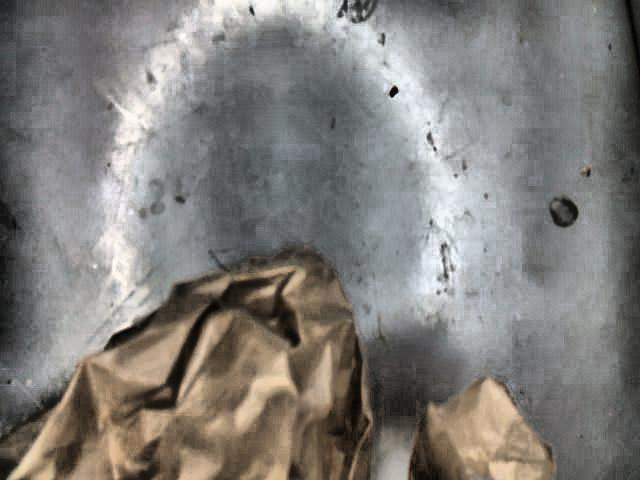Paper: (0, 247, 376, 477), (409, 375, 555, 477)
